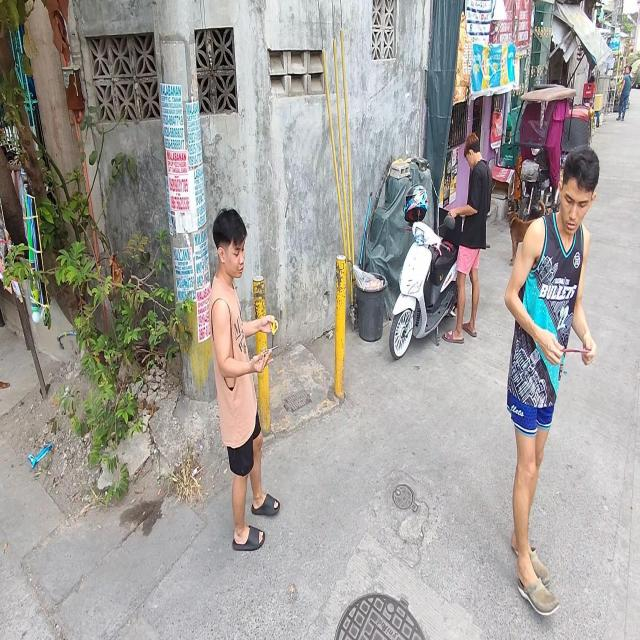scissor: (270, 319, 278, 349), (262, 346, 278, 360)
